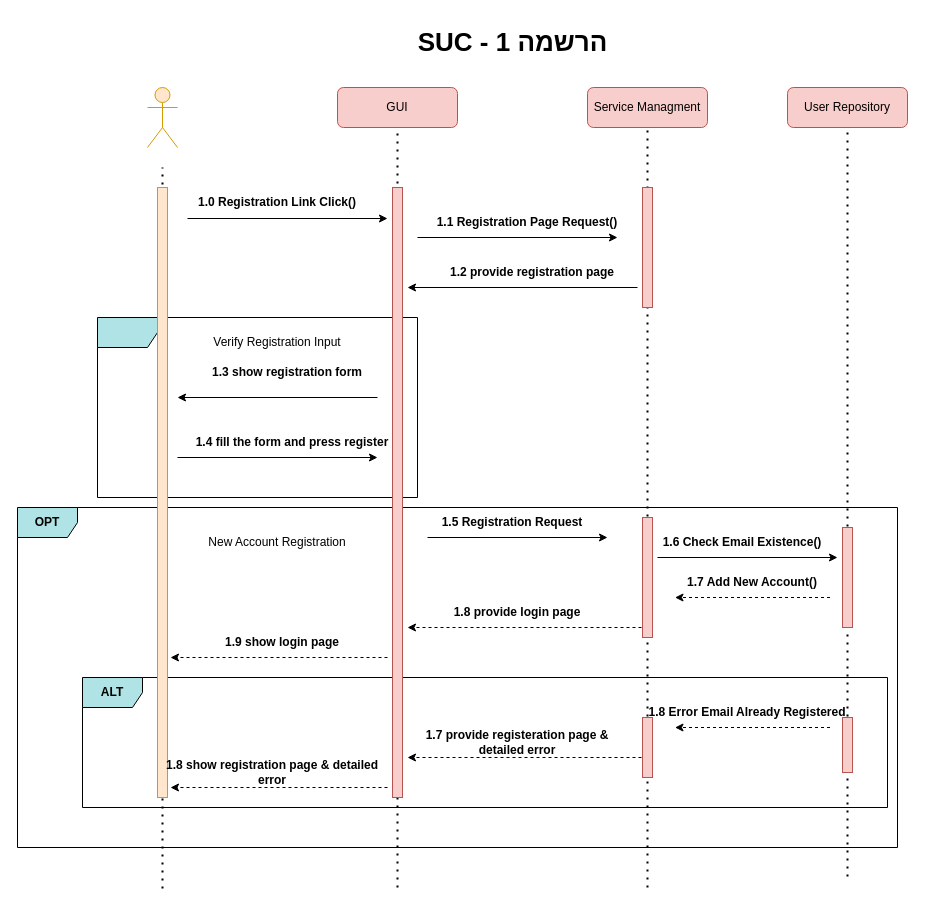
Image size: 925x908. Some labels were removed from this diagram. The box of each missing label's shape, as (x1, y1, x2, y2) in pixels:
LOOP: (96, 316, 418, 498)
unregistered user: (146, 86, 178, 148)
